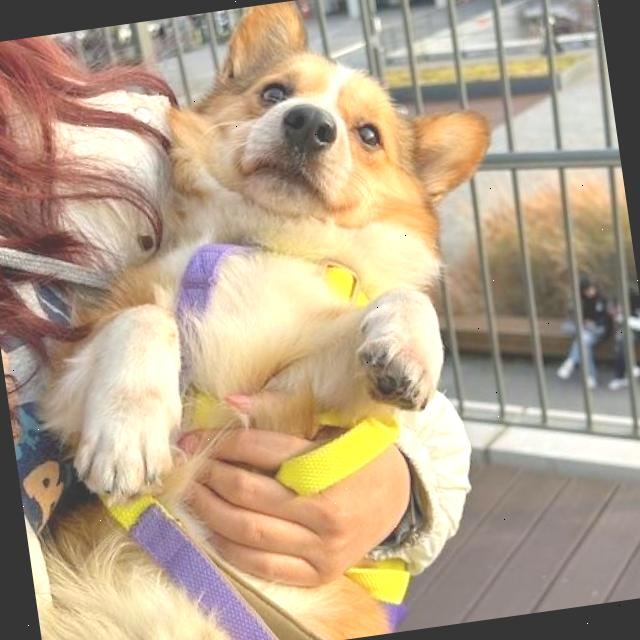corgi_dog: (133, 0, 519, 327)
